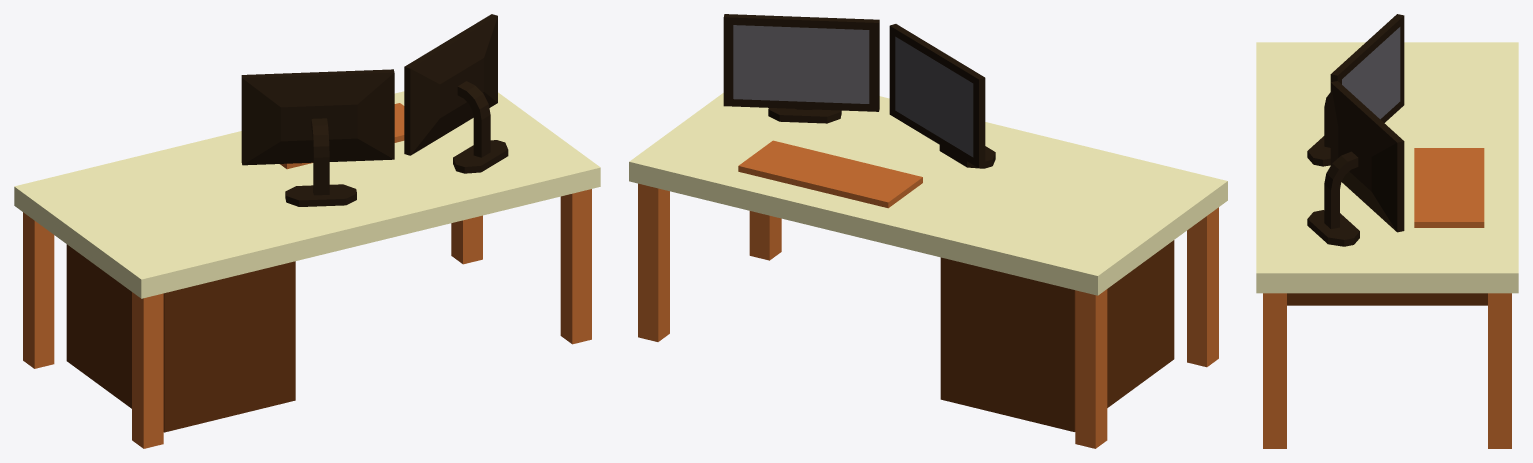
Rendered from Desk.fbx.
3 renders of one model, left to right at view 1: azimuth 30°, elevation 25°; view 2: azimuth 150°, elevation 25°; view 3: azimuth 270°, elevation 25°, orthographic. The views are drawn at different scales.
Parts seen in each view (by area): view 1: Desk; view 2: Desk; view 3: Desk.
Part boxes in pixels (box(x1,y1,x2,y2)): Desk: box(14, 14, 600, 448); Desk: box(629, 14, 1227, 448); Desk: box(1256, 14, 1518, 448).
Bounding box in the file's own units: 98.43 × 57.96 × 47.24.
